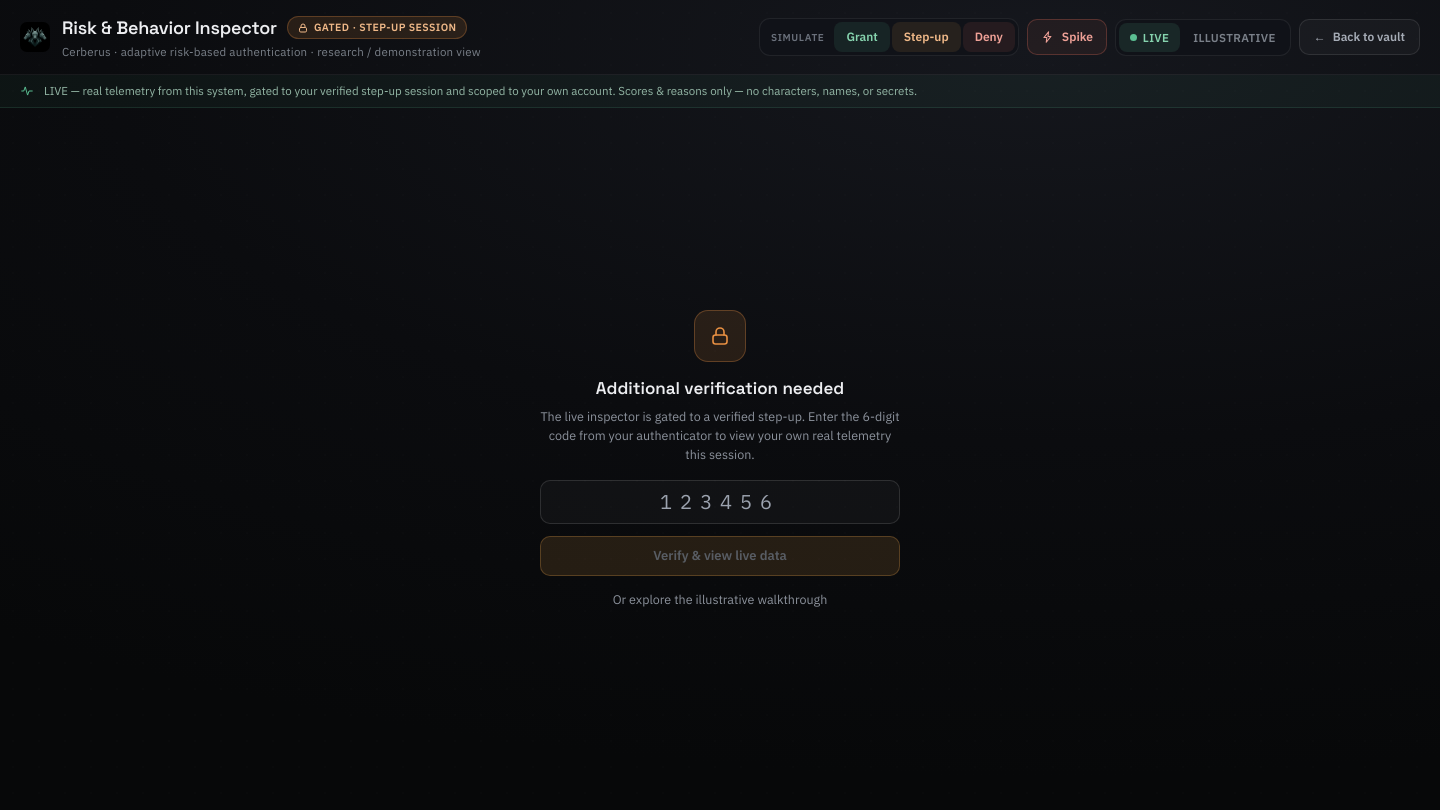
RiskDashboard — gating › a wrong TOTP code shows a generic error and stays gated (fail closed)
Type "999999" into the field named "Authenticator code".
click(720, 502); type("999999")  # box left=540, top=480, right=900, bottom=524
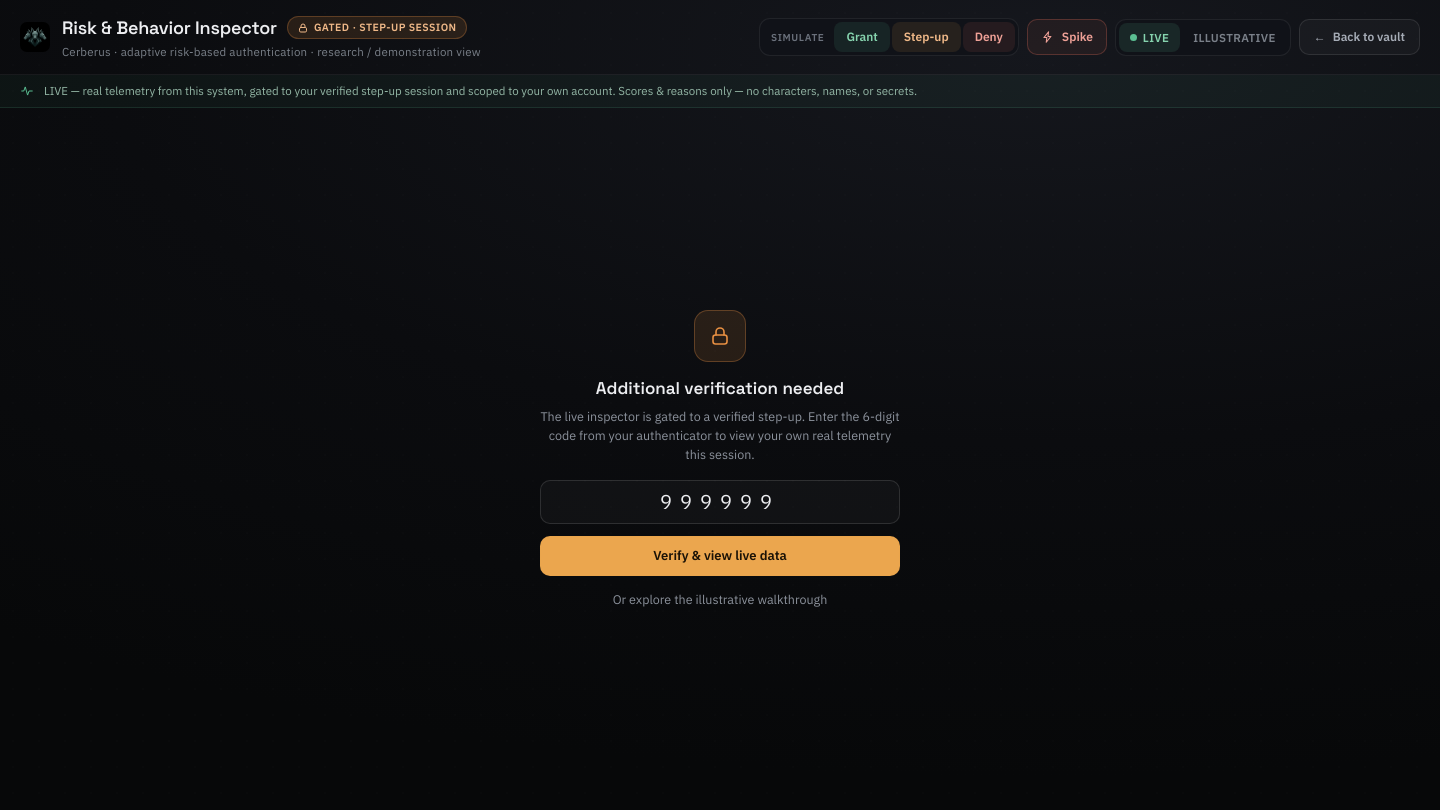
Click the button "Verify & view live data".
click(720, 556)  # box left=540, top=536, right=900, bottom=576
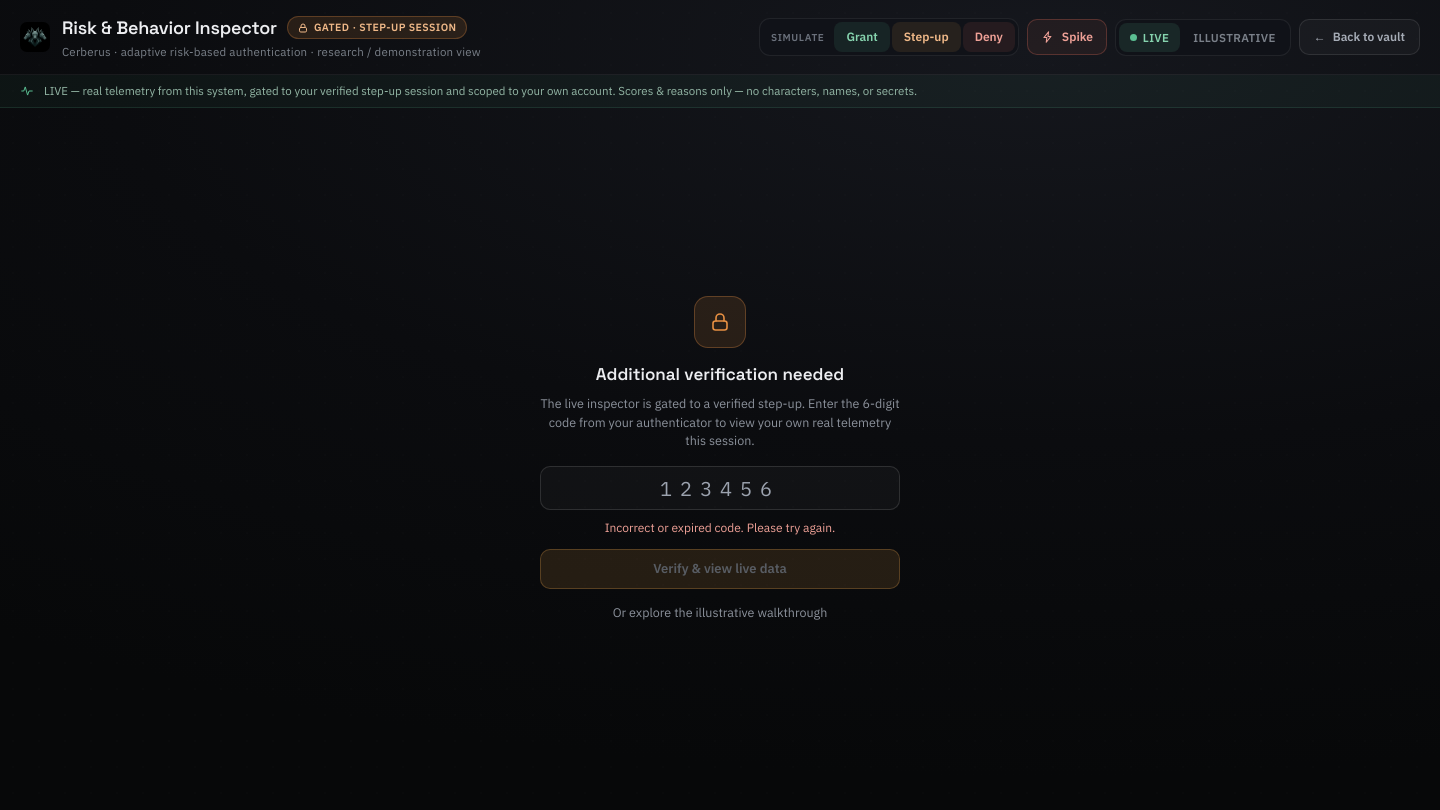
Result: the text "Incorrect or expired code. Please try again." is shown at left=605, top=520, right=835, bottom=535
